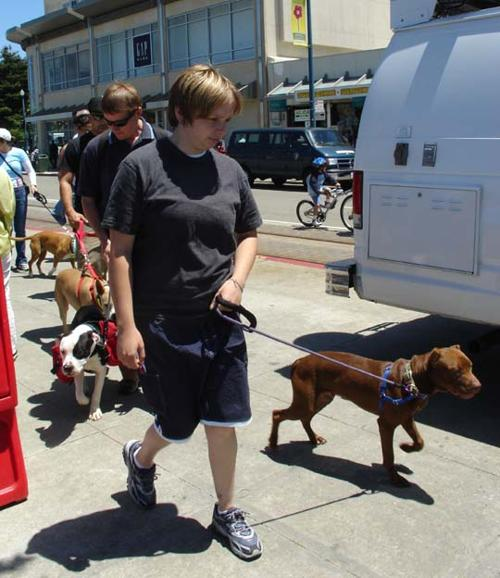person: (109, 69, 263, 562)
